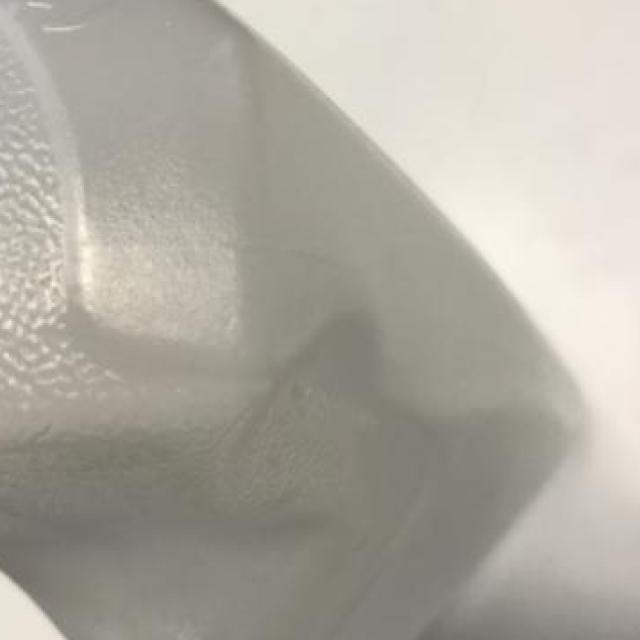organic: (15, 18, 604, 630)
